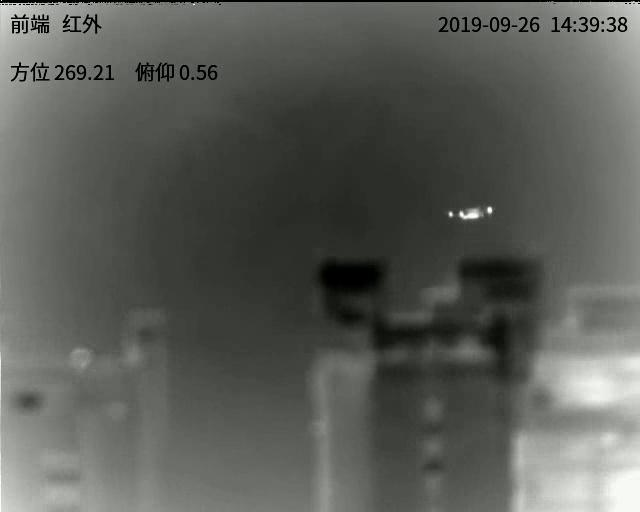DRONE: (446, 204, 494, 220)
